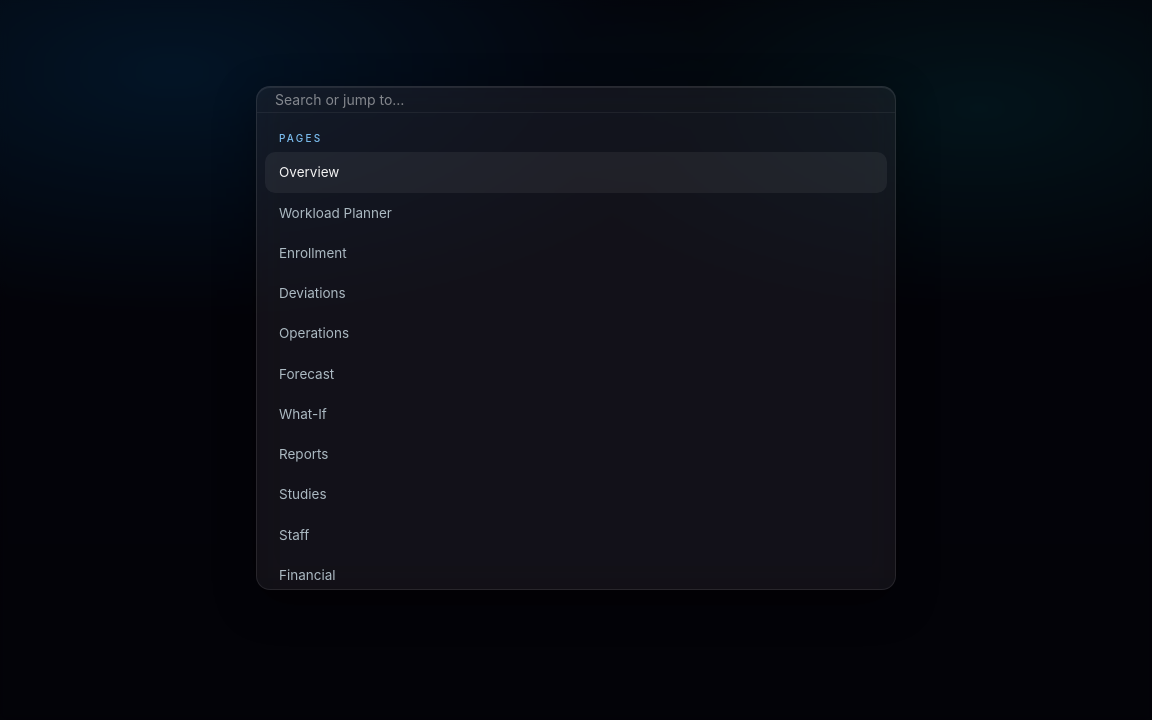
Test case: CommandPalette › filters by query
Type "deviation" into the dropdown with placeholder "Search or jump to…".
click(576, 100); type("deviation")  # box [257,87,895,113]
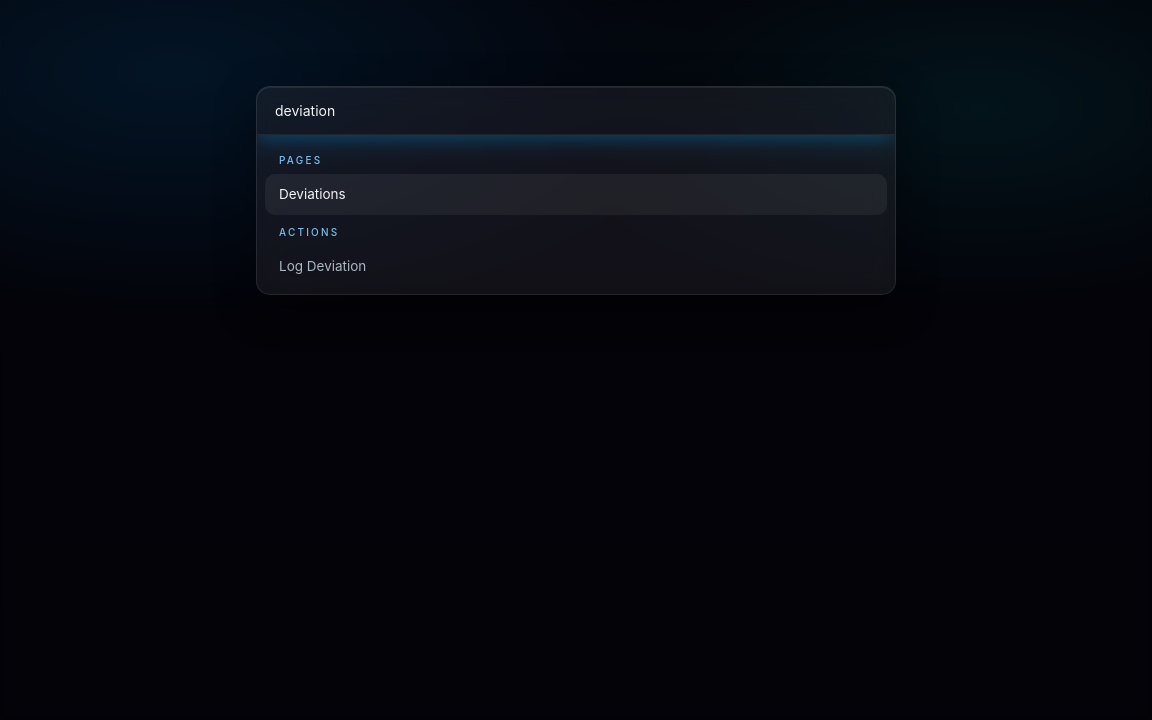
Expected: the option "Deviations" is shown, [265,174,887,215]
Now the option "Overview" is gone
